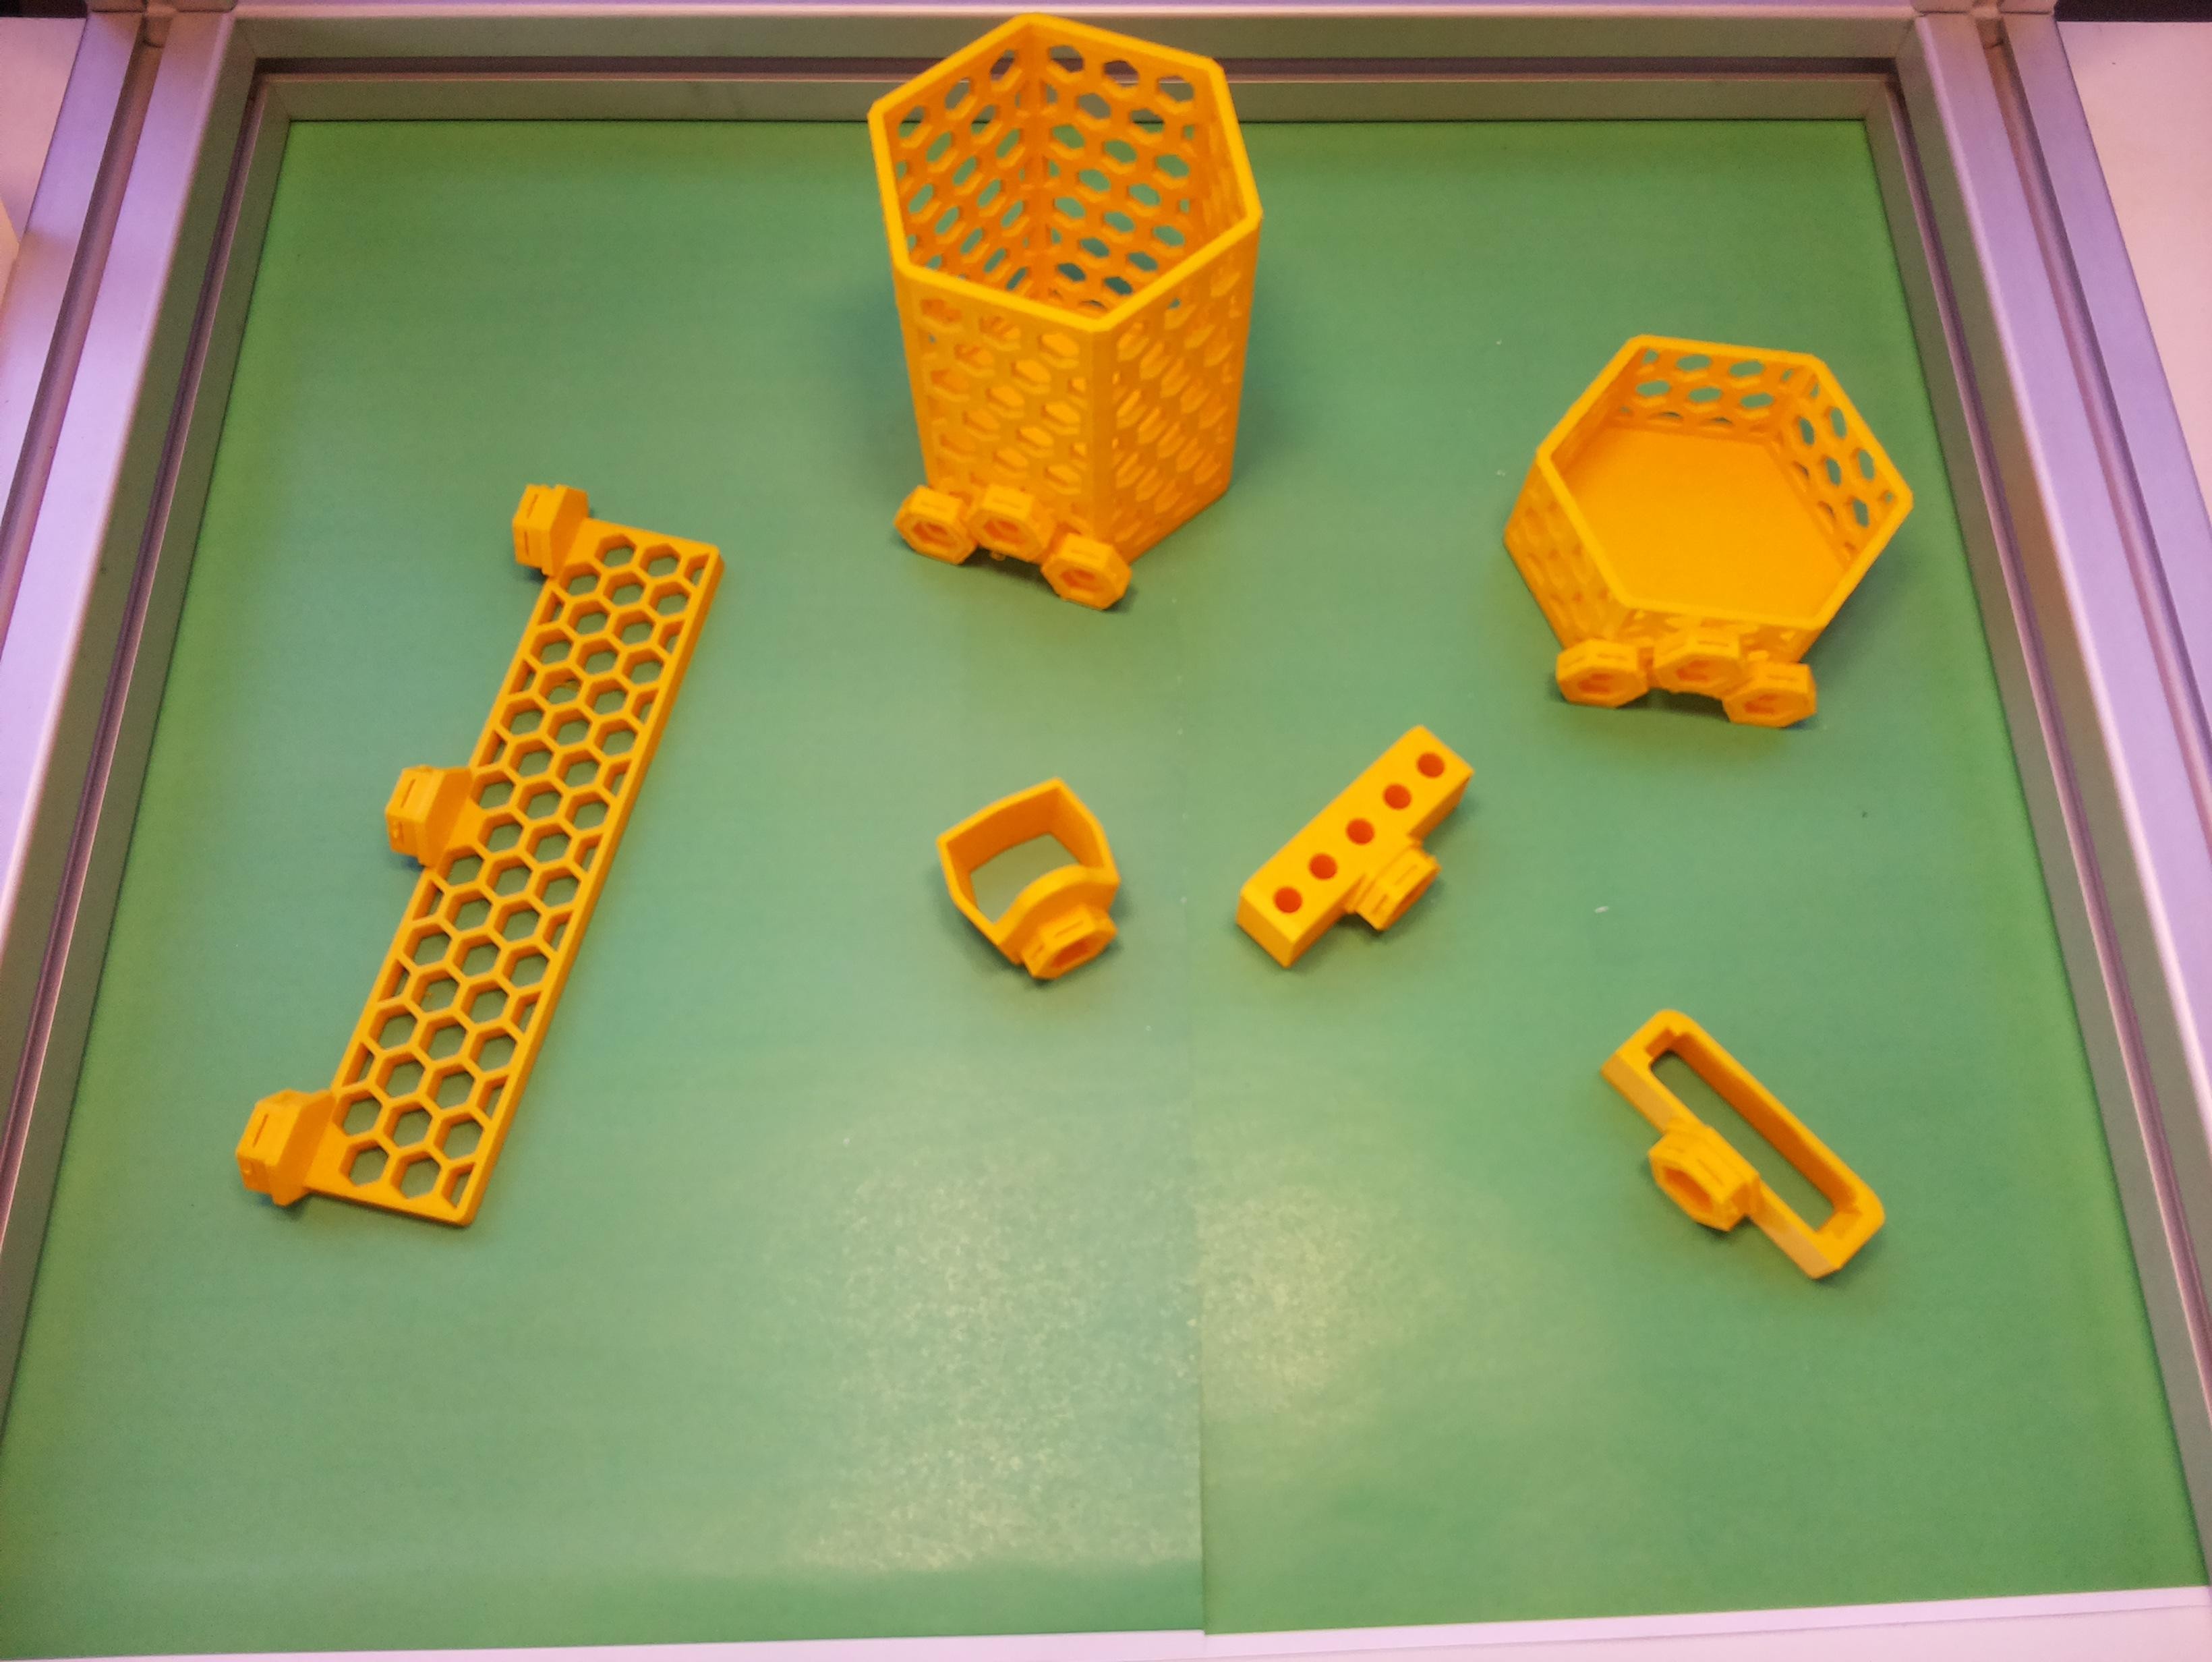bit_holder: (1222, 716, 1510, 1000)
bottle_holder: (1446, 267, 1954, 798)
cup_holder: (866, 5, 1276, 615)
cutter_holder: (1570, 997, 1894, 1316)
scissor_holder: (918, 759, 1159, 1007)
tool_holder: (223, 466, 747, 1276)
